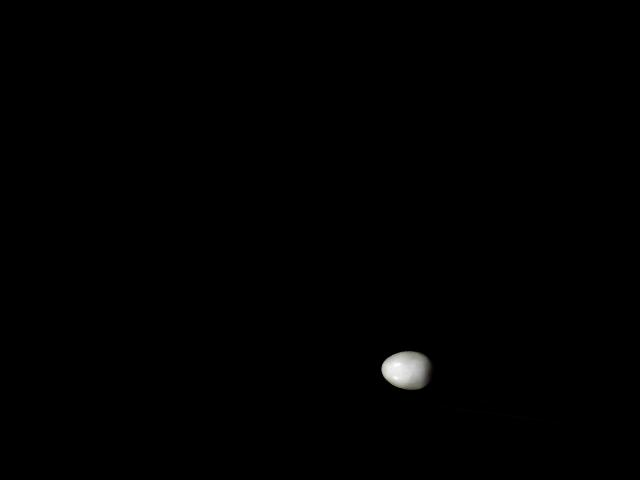egg: (379, 348, 437, 392)
